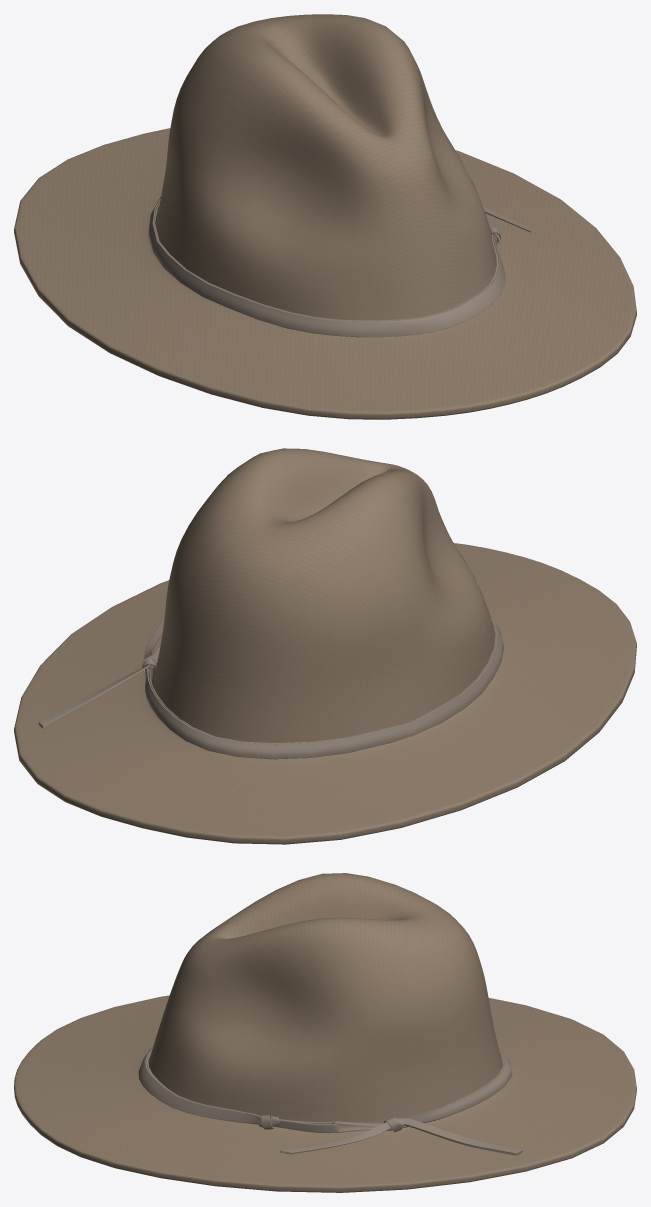
Rendered from hat.glb.
The picture shows the model from 3 angles, top to bottom: view 1: azimuth 30°, elevation 25°; view 2: azimuth 150°, elevation 25°; view 3: azimuth 270°, elevation 25°; orthographic projection. The views are drawn at different scales.
Visible parts, largest first — view 1: hat_low, tie_low; view 2: hat_low, tie_low; view 3: hat_low, tie_low.
Boxes of the visible parts, x1,y1,x2,y2 form: hat_low: (14, 14, 636, 419); tie_low: (148, 197, 531, 337); hat_low: (14, 448, 636, 844); tie_low: (38, 615, 503, 759); hat_low: (14, 873, 636, 1192); tie_low: (138, 1048, 522, 1155).
Size of the model in its own units: 10.17 by 4.49 by 13.02.
1 material, 1 textured.
